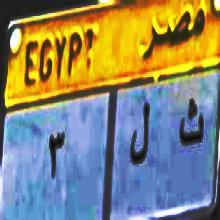3: (46, 128, 64, 188)
laam: (128, 96, 154, 174)
thaa: (176, 94, 206, 153)
